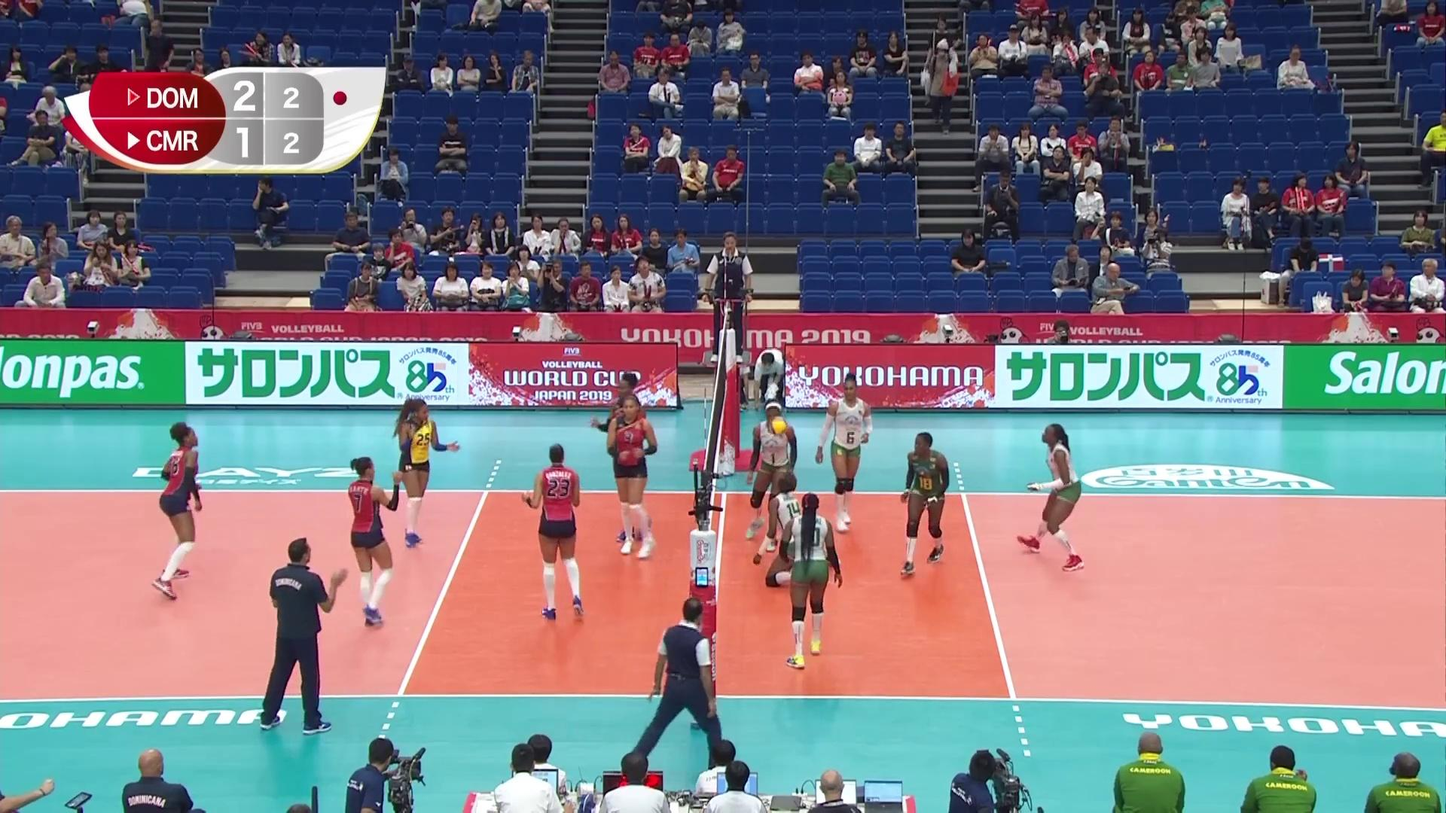player: (525, 444, 590, 621), (1015, 424, 1090, 568), (783, 494, 844, 670), (750, 472, 843, 583), (346, 458, 403, 630), (395, 398, 458, 551), (815, 374, 875, 530), (152, 424, 206, 596), (608, 394, 658, 562), (744, 403, 799, 552), (601, 373, 645, 540), (903, 432, 951, 575)
refree: (627, 597, 731, 765), (704, 230, 751, 361)
